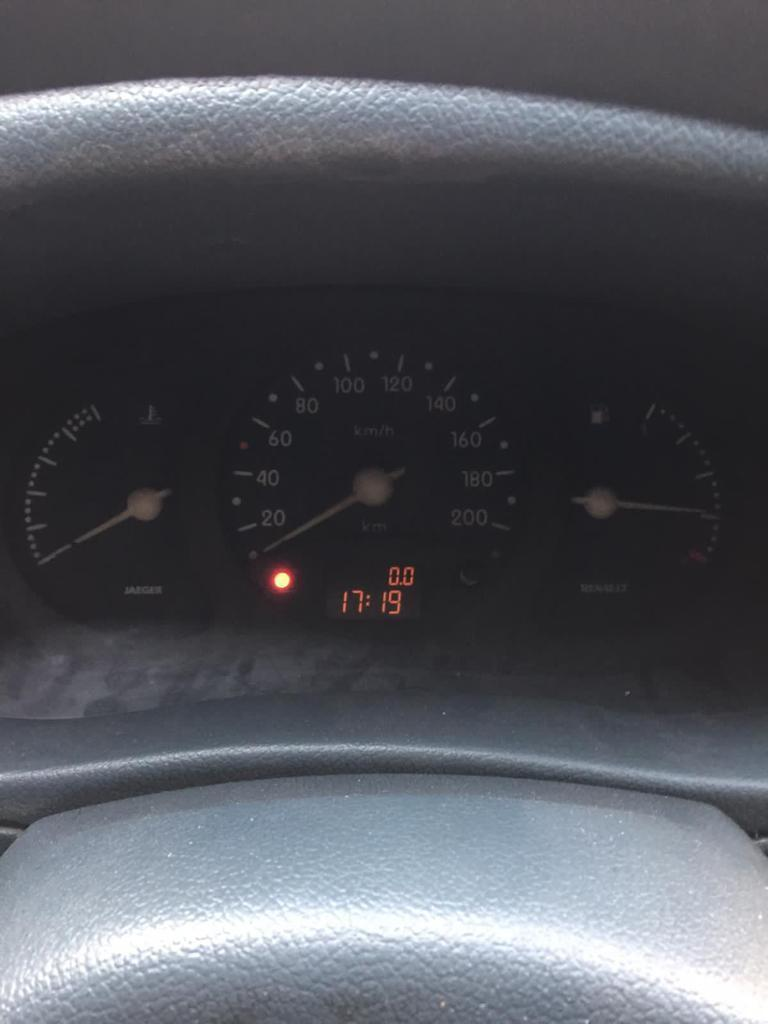,: (399, 580, 402, 587)
0: (403, 565, 415, 586), (388, 565, 399, 585)
1: (380, 588, 387, 616), (341, 589, 348, 616)
7: (350, 588, 363, 615)
9: (388, 589, 402, 614)
X: (364, 592, 373, 607)
odometer: (320, 557, 423, 623)
